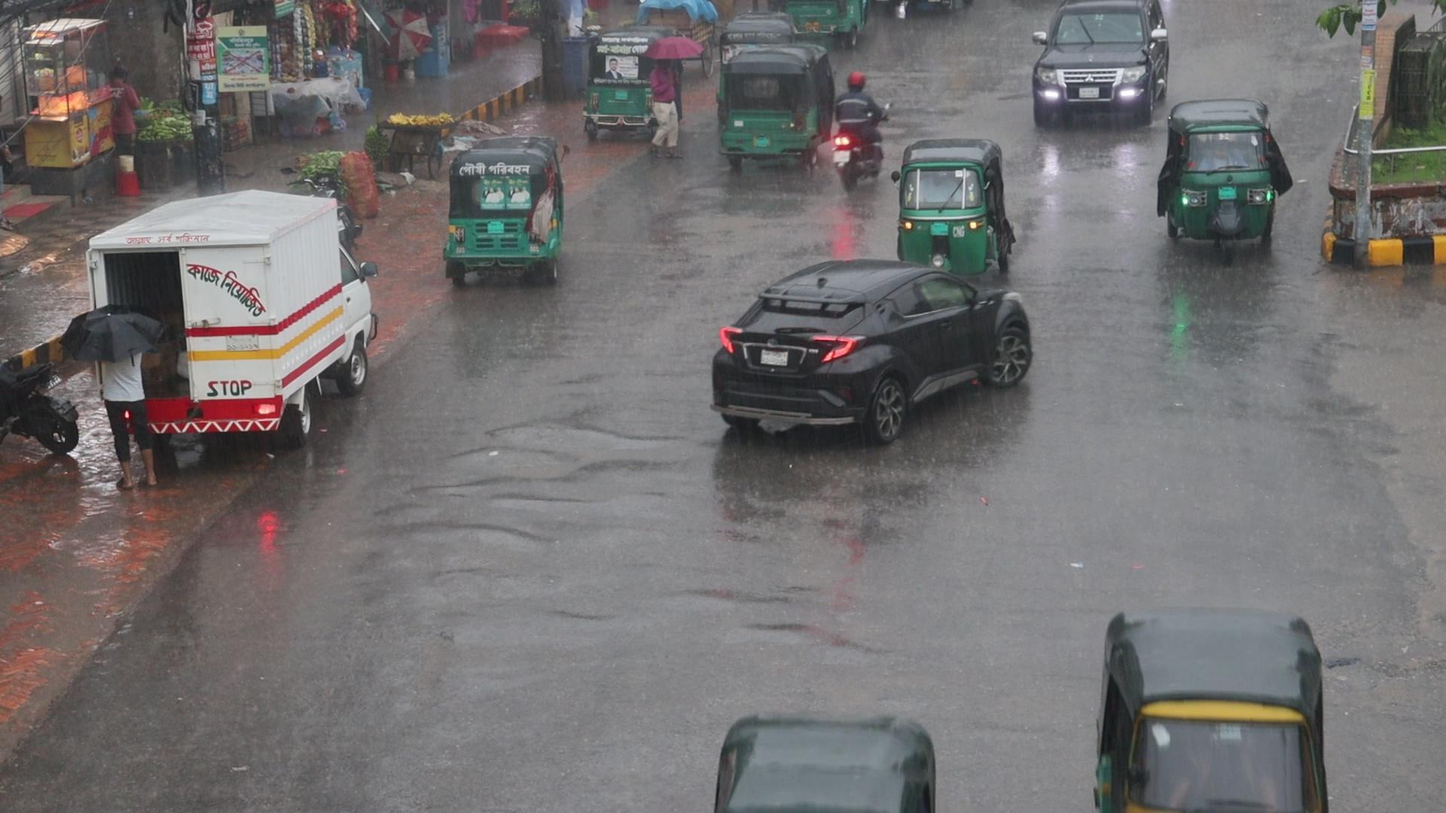Car: (703, 253, 1036, 445), (1028, 6, 1169, 126)
